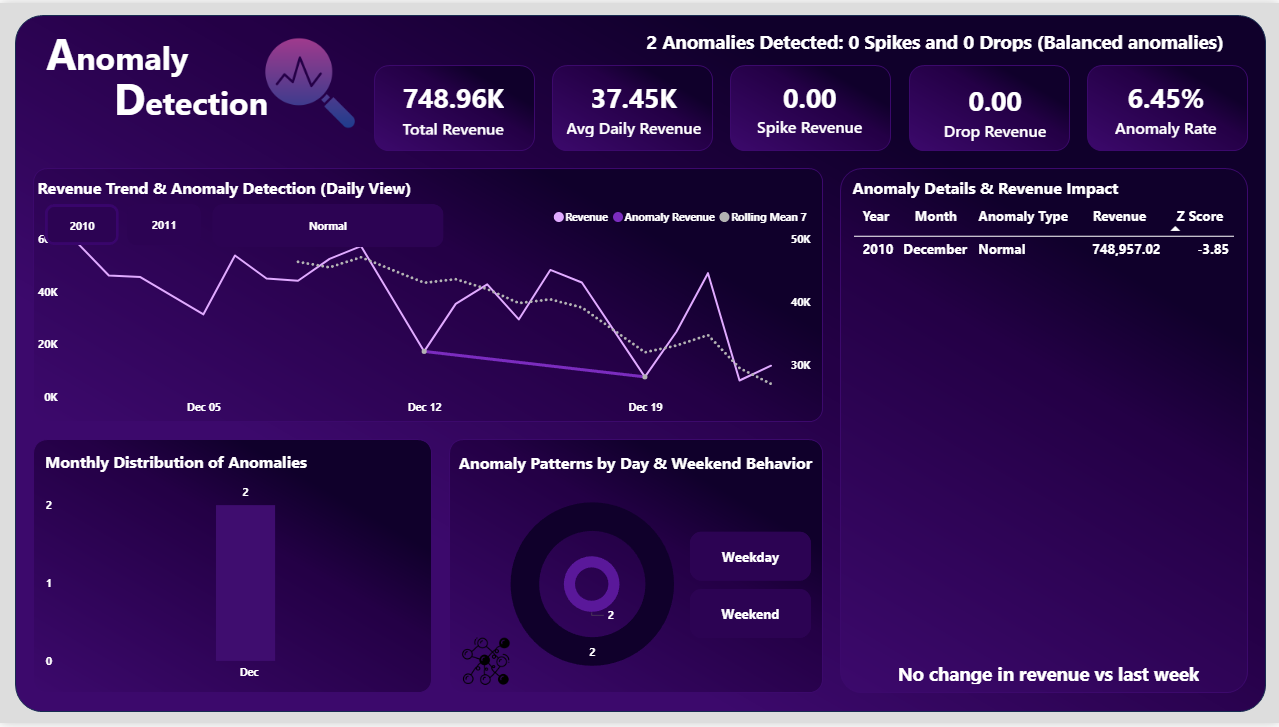

What the dashboard file says about the page in this screenshot:
{"tool":"powerbi","page":{"name":"Time-Series Analysis","canvas":[1280,720],"ordinal":0},"visuals":[{"type":"image","box":[448.8,633.8,73.8,48.8],"z":0},{"type":"lineChart","title":"Revenue Trend & Anomaly Detection (Daily View)","fields":{"Y":["Sum(daily_anomaly_data.Revenue)","daily_anomaly_data.Anomaly Revenue"],"Category":["Date_Dim.Date.Variation.Date Hierarchy.Year","Date_Dim.Date.Variation.Date Hierarchy.Month","Date_Dim.Date.Variation.Date Hierarchy.Day"],"Y2":["Sum(daily_anomaly_data.Rolling_Mean_7)"]},"box":[32.5,173.8,783.8,247.5],"z":1000},{"type":"advancedSlicerVisual","fields":{"Values":["Date_Dim.Year"]},"box":[40,196.2,167.5,51.2],"z":2000},{"type":"donutChart","fields":{"Y":["_Measueres.Total Anomalies"],"Category":["Date_Dim.Day Name"]},"box":[432.5,463.8,320,235],"z":3000},{"type":"cardVisual","fields":{"Data":["_Measueres.Total Revenue"]},"box":[371.4,64.3,164.3,85.7],"z":4000},{"type":"advancedSlicerVisual","fields":{"Values":["Date_Dim.Weekend_Label"]},"box":[685,523.8,131.2,117.5],"z":5000},{"type":"cardVisual","fields":{"Data":["_Measueres.Anomaly Insight"]},"box":[602.9,8.6,665.7,57.1],"z":6000},{"type":"advancedSlicerVisual","fields":{"Values":["daily_anomaly_data.Anomaly_Type"]},"box":[207.5,196.2,241.2,53.8],"z":7000},{"type":"cardVisual","fields":{"Data":["_Measueres.Avg Daily Revenue"]},"box":[535.7,60,195.7,91.4],"z":8000},{"type":"cardVisual","fields":{"Data":["daily_anomaly_data.Spike Revenue"]},"box":[725.7,57.1,167.1,95.7],"z":9000},{"type":"tableEx","title":"Anomaly Details & Revenue Impact ","fields":{"Values":["Date_Dim.Date.Variation.Date Hierarchy.Year","Date_Dim.Date.Variation.Date Hierarchy.Month","daily_anomaly_data.Anomaly_Type","Sum(daily_anomaly_data.Revenue)","Sum(daily_anomaly_data.Z_Score)"]},"box":[847.1,174.3,401.4,508.6],"z":10000},{"type":"columnChart","title":"Monthly Distribution of Anomalies","fields":{"Y":["_Measueres.Total Anomalies"],"Category":["Date_Dim.Month"]},"box":[40,447.1,401.4,238.6],"z":11000},{"type":"cardVisual","fields":{"Data":["_Measueres.Anomaly Rate"]},"box":[1084.3,55.7,164.3,98.6],"z":12000},{"type":"cardVisual","fields":{"Data":["daily_anomaly_data.Drop Revenue"]},"box":[912.9,61.4,165.7,94.3],"z":13000},{"type":"donutChart","fields":{"Category":["Date_Dim.Weekend_Label"],"Y":["_Measueres.Total Anomalies"]},"box":[538.8,536.2,106.2,90],"z":14000},{"type":"cardVisual","fields":{"Data":["_Measueres.Revenue WoW Insight"]},"box":[840,641.4,417.1,57.1],"z":15000},{"type":"textbox","box":[454.3,444.3,378.6,38.6],"z":16000},{"type":"textbox","box":[41.2,16.2,172.5,67.5],"z":17000},{"type":"textbox","box":[108.8,61.2,180,71.2],"z":18000},{"type":"image","box":[255,30,108.8,100],"z":19000}]}

Visuals, with their boxes in screenshot pixels (x1, y1, x2, y2), scaled from the page's 1280x720 canvas onto the 1279x727 screenshot:
image: BBox(448, 640, 522, 689)
"Revenue Trend & Anomaly Detection (Daily View)" lineChart: BBox(32, 175, 816, 425)
advancedSlicerVisual - Date_Dim.Year: BBox(40, 198, 207, 250)
donutChart - _Measueres.Total Anomalies x Date_Dim.Day Name: BBox(432, 468, 752, 706)
cardVisual - _Measueres.Total Revenue: BBox(371, 65, 535, 151)
advancedSlicerVisual - Date_Dim.Weekend_Label: BBox(684, 529, 816, 648)
cardVisual - _Measueres.Anomaly Insight: BBox(602, 9, 1268, 66)
advancedSlicerVisual - daily_anomaly_data.Anomaly_Type: BBox(207, 198, 448, 252)
cardVisual - _Measueres.Avg Daily Revenue: BBox(535, 61, 731, 153)
cardVisual - daily_anomaly_data.Spike Revenue: BBox(725, 58, 892, 154)
"Anomaly Details & Revenue Impact " tableEx: BBox(846, 176, 1248, 690)
"Monthly Distribution of Anomalies" columnChart: BBox(40, 451, 441, 692)
cardVisual - _Measueres.Anomaly Rate: BBox(1083, 56, 1248, 156)
cardVisual - daily_anomaly_data.Drop Revenue: BBox(912, 62, 1078, 157)
donutChart - Date_Dim.Weekend_Label x _Measueres.Total Anomalies: BBox(538, 541, 644, 632)
cardVisual - _Measueres.Revenue WoW Insight: BBox(839, 648, 1256, 705)
textbox: BBox(454, 449, 832, 488)
textbox: BBox(41, 16, 214, 85)
textbox: BBox(109, 62, 289, 134)
image: BBox(255, 30, 364, 131)
